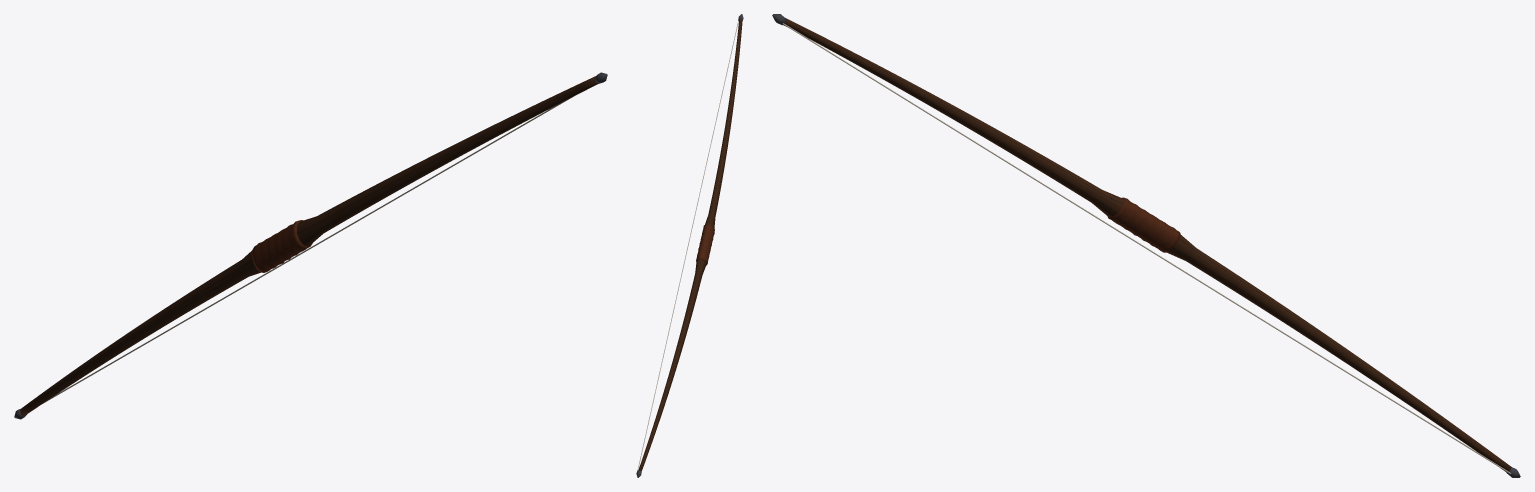
The model's file is weapon_yew_longbow.glb.
3 views of the same model, side by side, from view 1: azimuth 30°, elevation 25°; view 2: azimuth 150°, elevation 25°; view 3: azimuth 270°, elevation 25° (orthographic). The views are drawn at different scales.
Parts seen in each view (by area): view 1: yew_longbow; view 2: yew_longbow; view 3: yew_longbow.
Part boxes in pixels (x1,y1,x2,y2): yew_longbow: [14, 72, 607, 419]; yew_longbow: [636, 14, 743, 477]; yew_longbow: [772, 14, 1520, 477].
Bounding box in the file's own units: 0.3528 × 1 × 1.24.
Materials: 4 (3 with a texture image).
